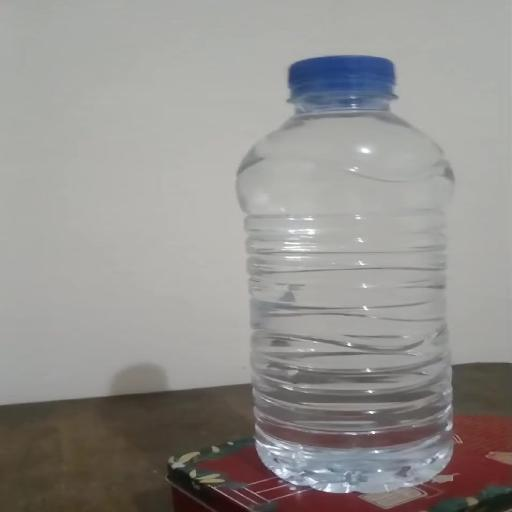bouteille non conformite: (239, 59, 471, 496)
